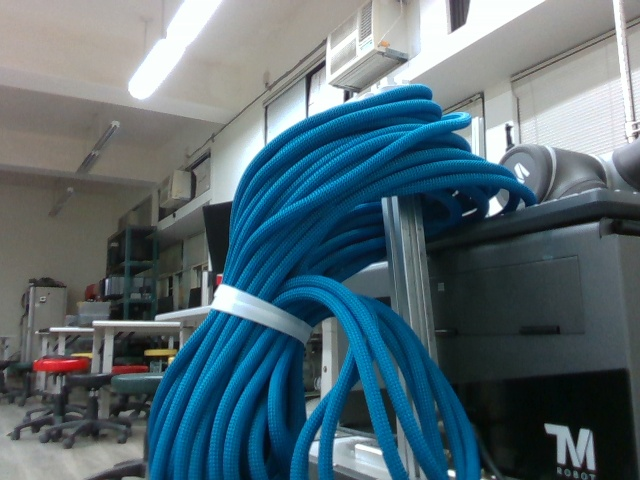rope: (141, 82, 544, 480)
